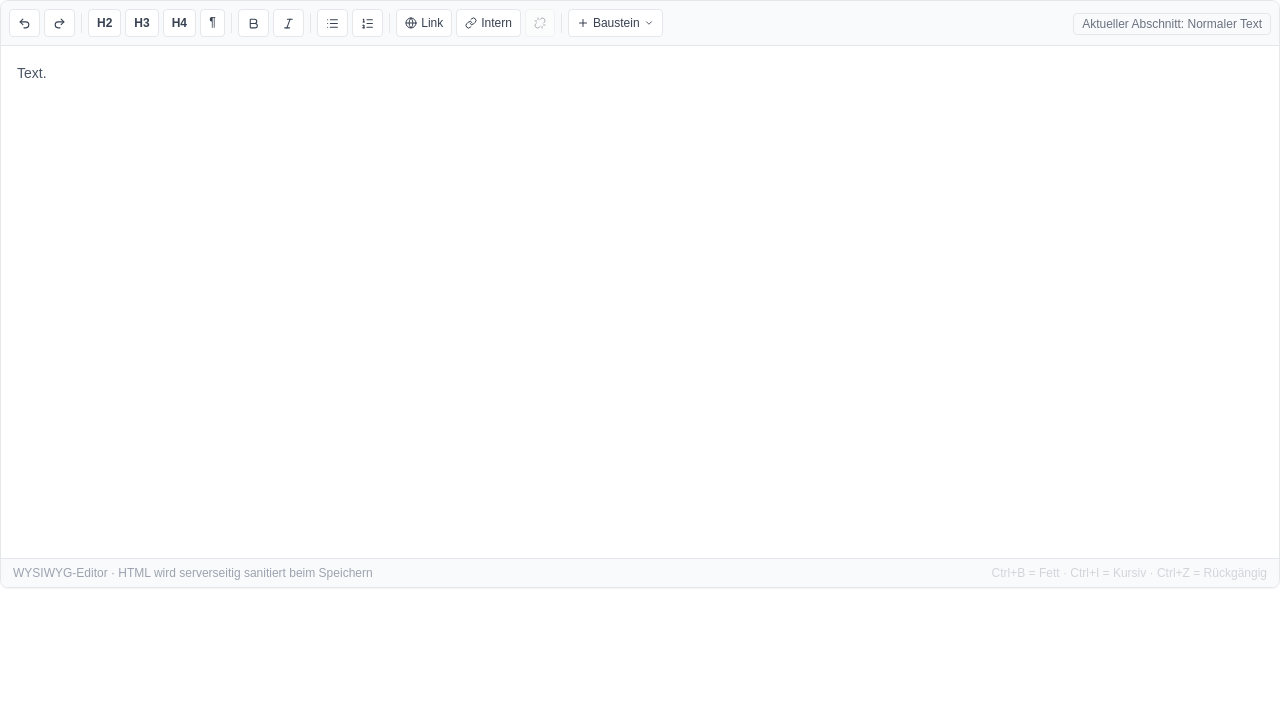
Scenario: C1/C2 – Toolbar-Button öffnet und schliesst › ein erneuter Button-Klick schliesst das Menü
Press the mouse on the button with test id "btn-insert-block" at (615, 23), box x1=568 y1=9 x2=663 y2=37
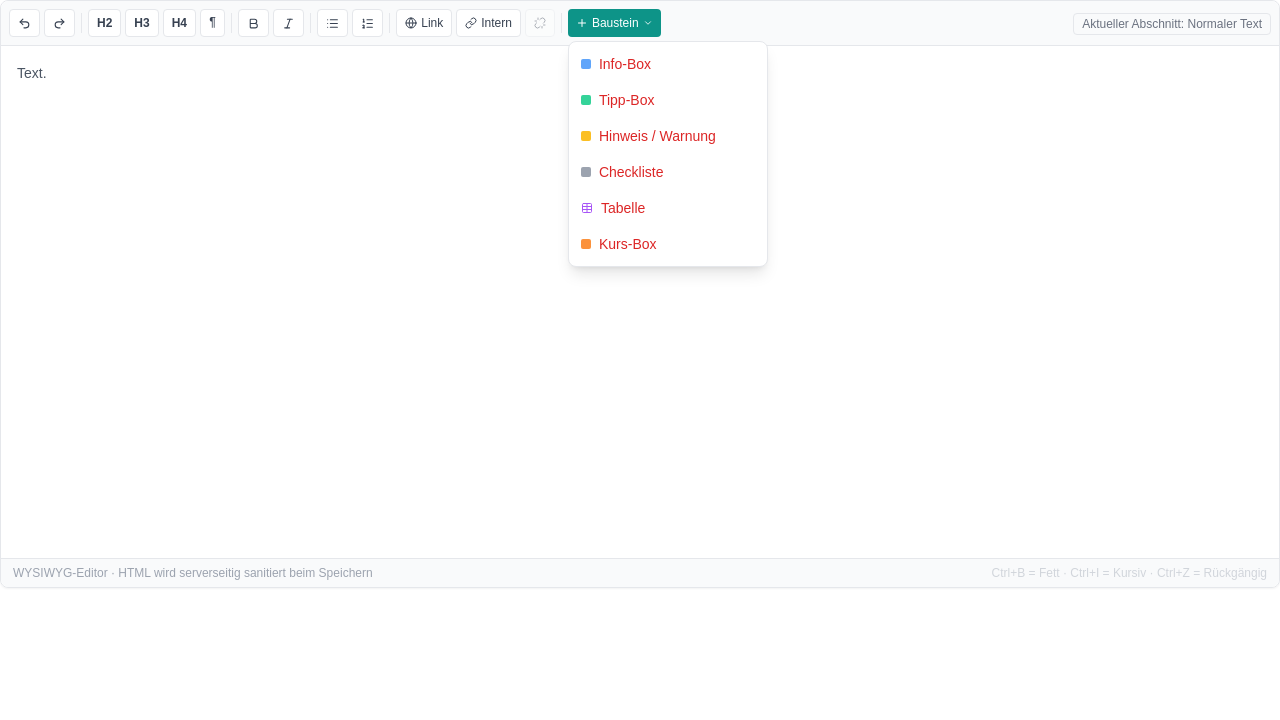
Now the menu with test id "insert-menu" is shown, box x1=568 y1=41 x2=768 y2=267
Press the mouse on the button with test id "btn-insert-block" at (614, 23), box x1=568 y1=9 x2=661 y2=37
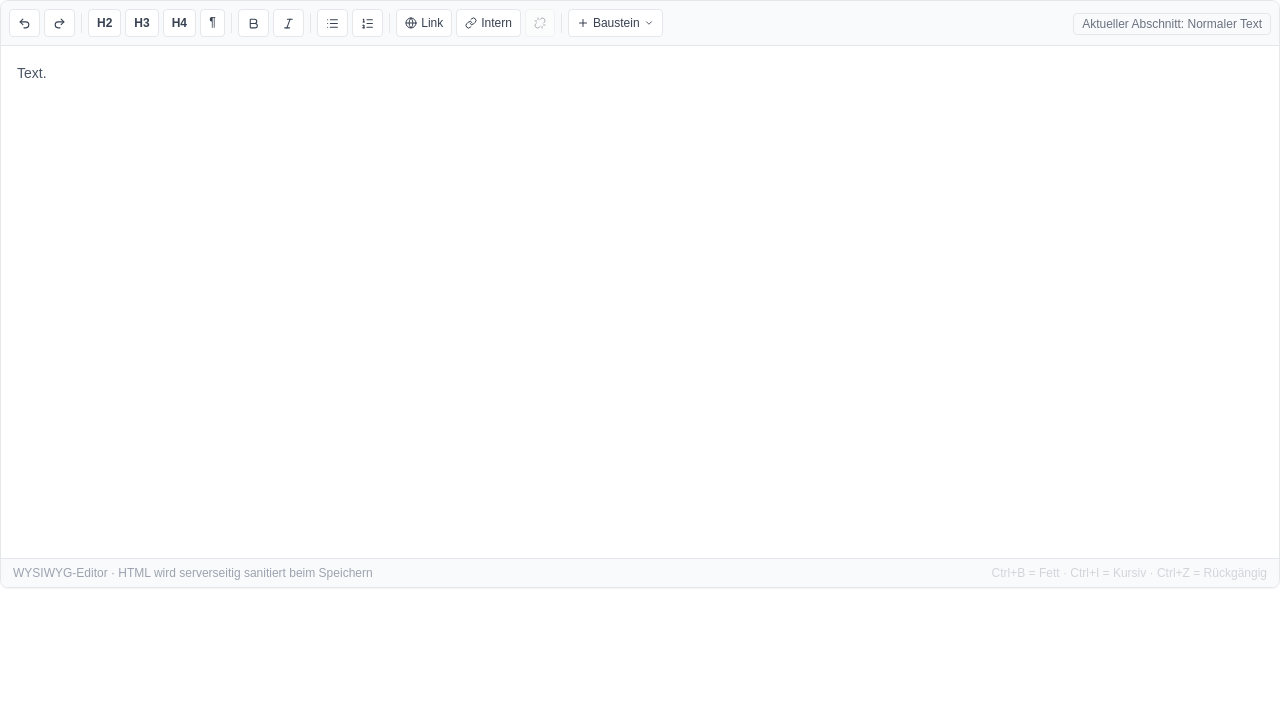
Now the menu with test id "insert-menu" is gone
